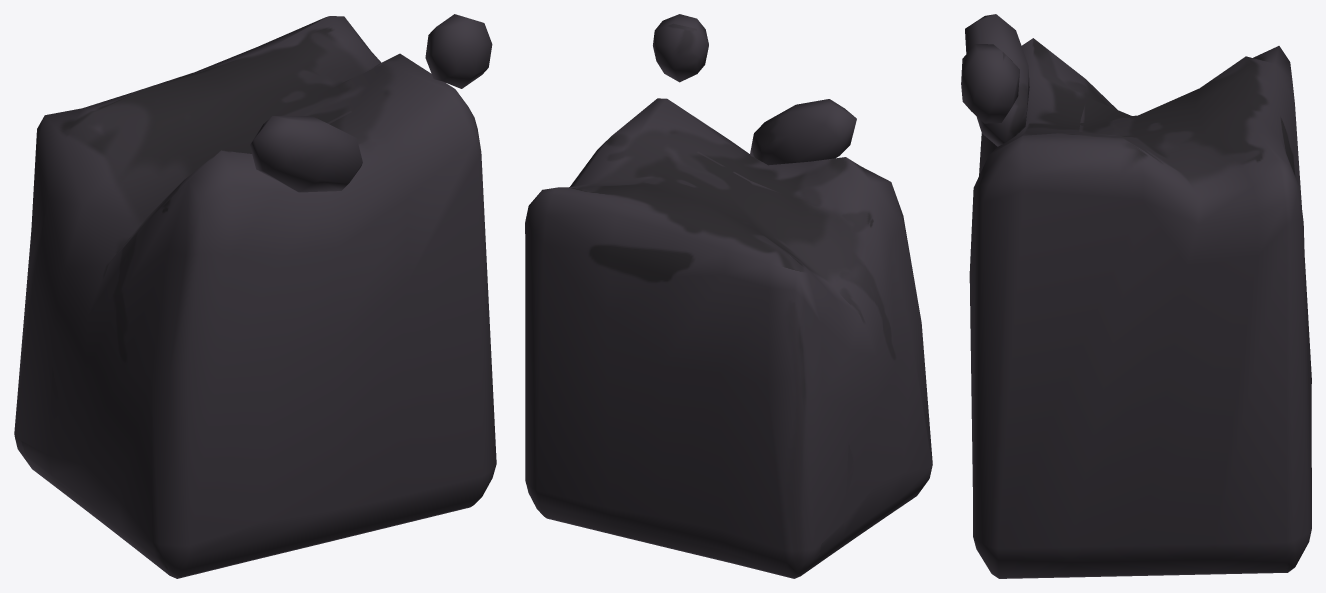
File: Pumpkin_Brick_1.fbx
The picture shows the model from 3 angles, left to right: view 1: azimuth 30°, elevation 25°; view 2: azimuth 150°, elevation 25°; view 3: azimuth 270°, elevation 25°; orthographic projection. The views are drawn at different scales.
Parts seen in each view (by area): view 1: Cube.001; view 2: Cube.001; view 3: Cube.001.
Boxes of the visible parts, left/top/right/bottom form: Cube.001: left=14, top=14, right=496, bottom=578; Cube.001: left=525, top=14, right=932, bottom=578; Cube.001: left=961, top=14, right=1311, bottom=578.
Size of the model in its own units: 91.36 by 125 by 75.99.
